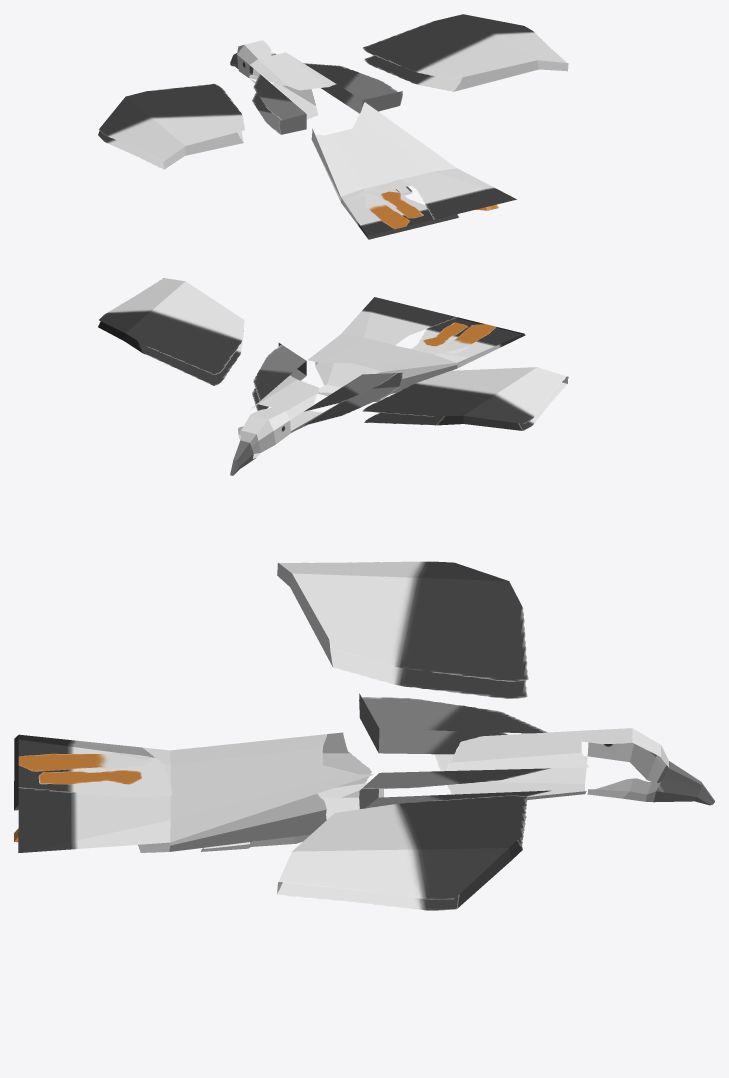
File: Seagull.fbx
The picture shows the model from 3 angles, top to bottom: view 1: azimuth 30°, elevation 25°; view 2: azimuth 150°, elevation 25°; view 3: azimuth 270°, elevation 25°; orthographic projection. The views are drawn at different scales.
Parts seen in each view (by area): view 1: Seagull; view 2: Seagull; view 3: Seagull.
Boxes of the visible parts, x1,y1,x2,y2 form: Seagull: [98, 14, 568, 239]; Seagull: [98, 278, 568, 475]; Seagull: [14, 561, 714, 910].
Bounding box in the file's own units: 219 × 22.78 × 117.
